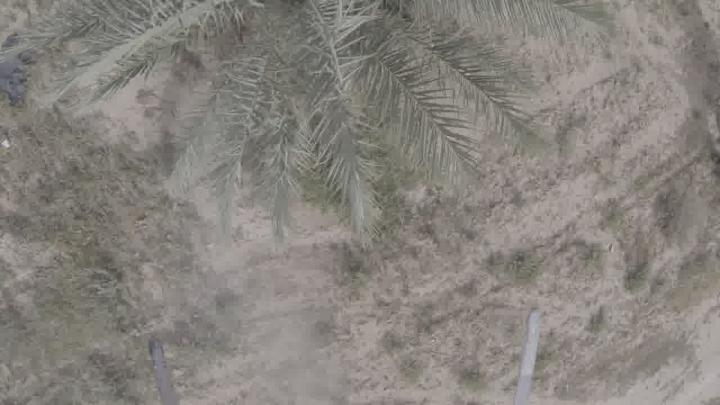Date-Palm-Crown: (114, 0, 470, 156)
